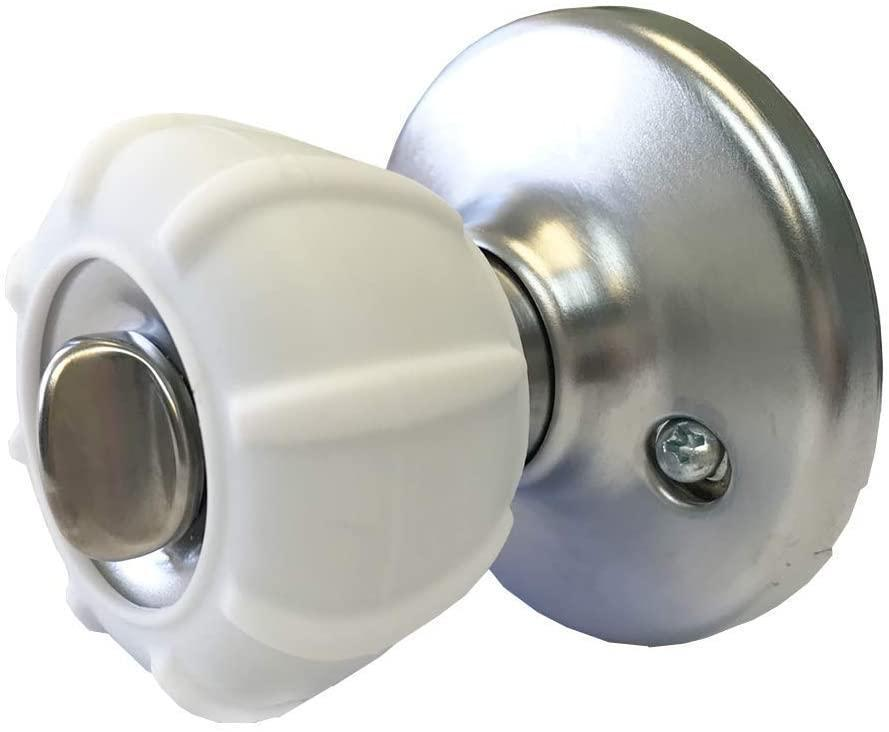doorhandle: (17, 70, 867, 717)
